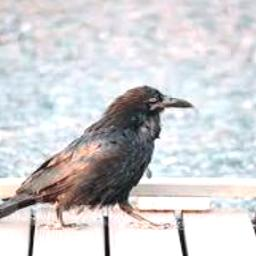Crow: (0, 85, 195, 230)
